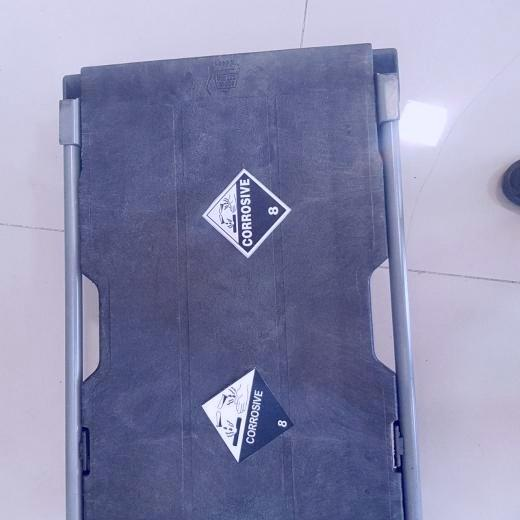corrosive: (201, 369, 293, 462), (203, 169, 293, 256)
